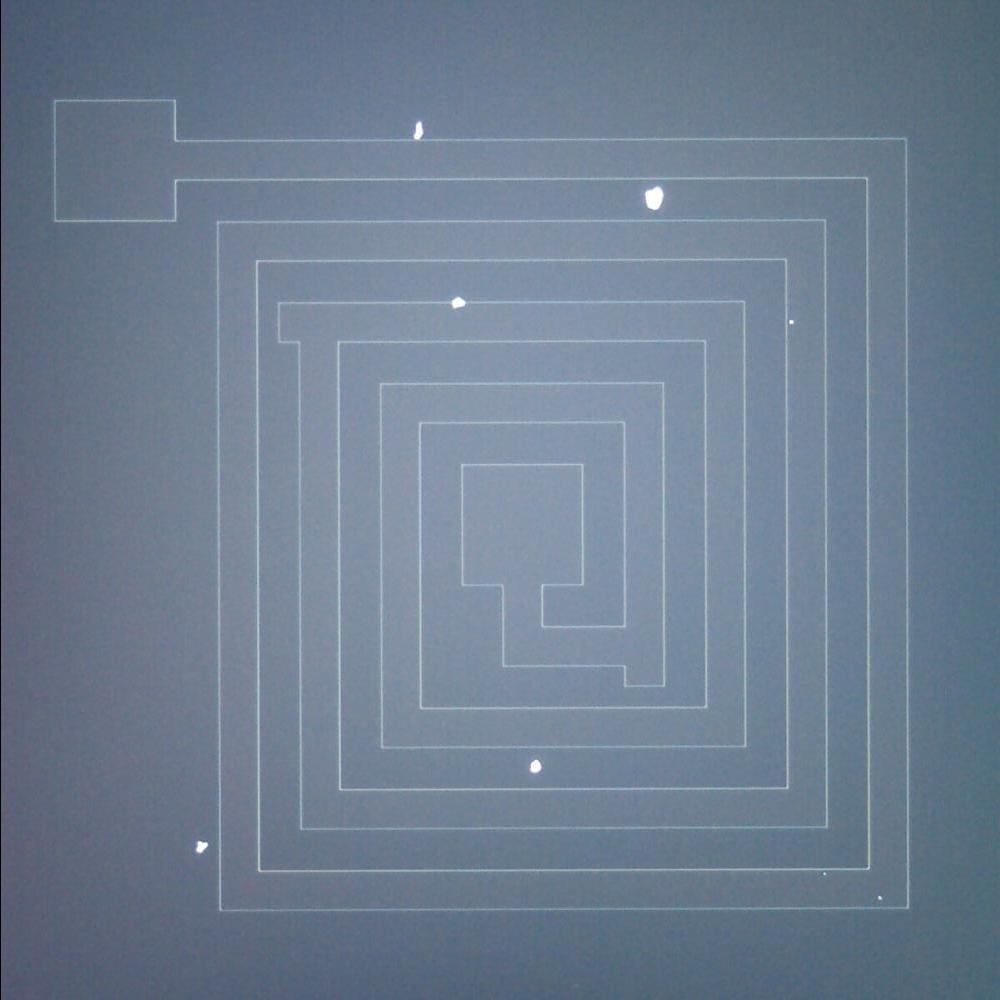budge circuit: (608, 650, 678, 694), (268, 295, 312, 356)
dot: (776, 305, 804, 339), (867, 885, 897, 910)
spot: (638, 182, 668, 215), (403, 112, 430, 148), (188, 834, 213, 861), (444, 292, 475, 312), (524, 755, 548, 779)
